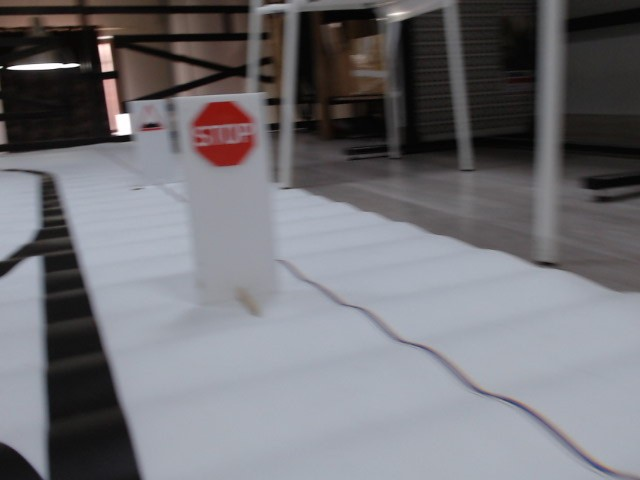Stop: (190, 102, 259, 168)
